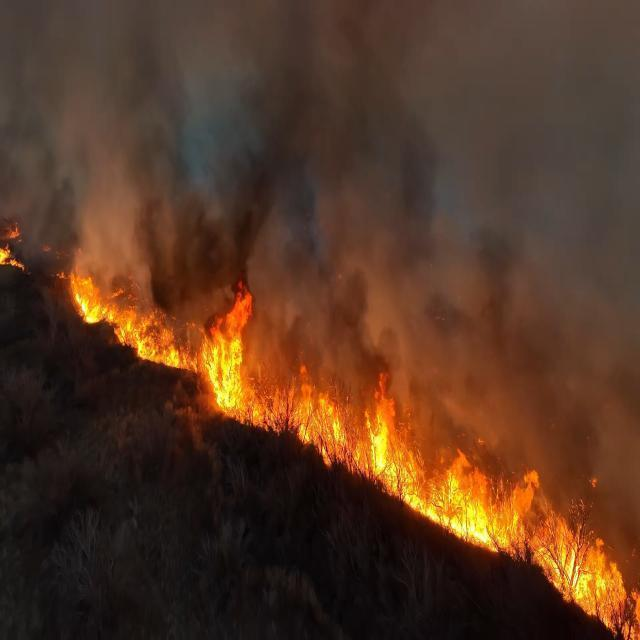Fire: (255, 373, 400, 476), (396, 455, 531, 551), (165, 279, 258, 413), (69, 265, 164, 362), (536, 531, 627, 615)
Smoke: (165, 0, 375, 276)
